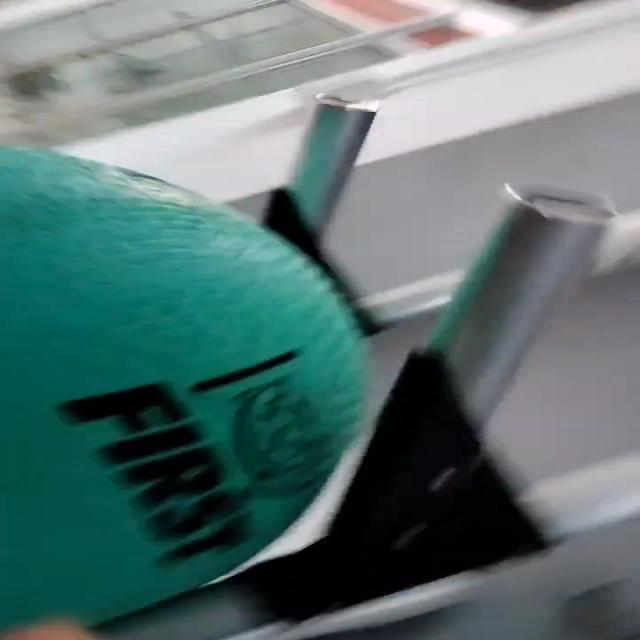ALGAE: (0, 117, 374, 633)
